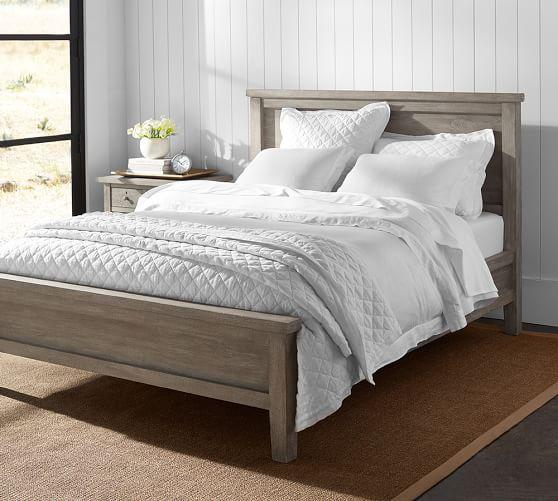bed: (2, 79, 544, 465)
